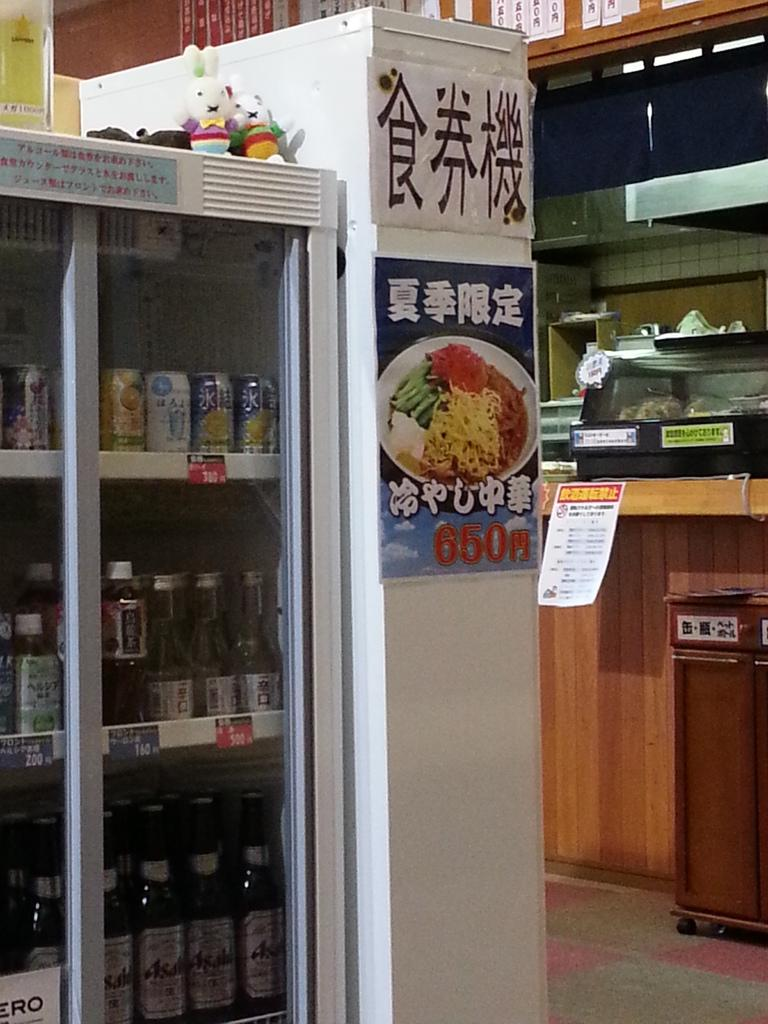cabinet_door: (679, 658, 753, 902)
